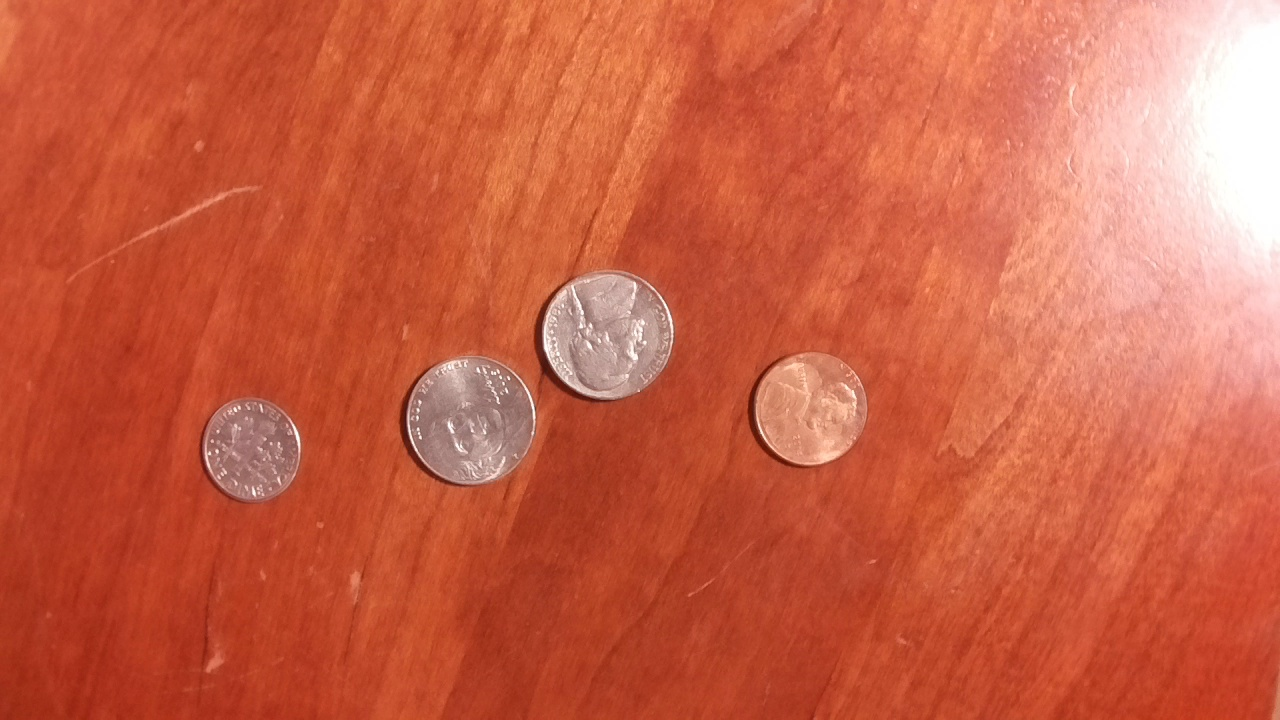dime: (745, 345, 875, 477), (198, 393, 306, 509)
nickel: (395, 354, 543, 502), (532, 268, 682, 408)
penny: (746, 344, 874, 474)
